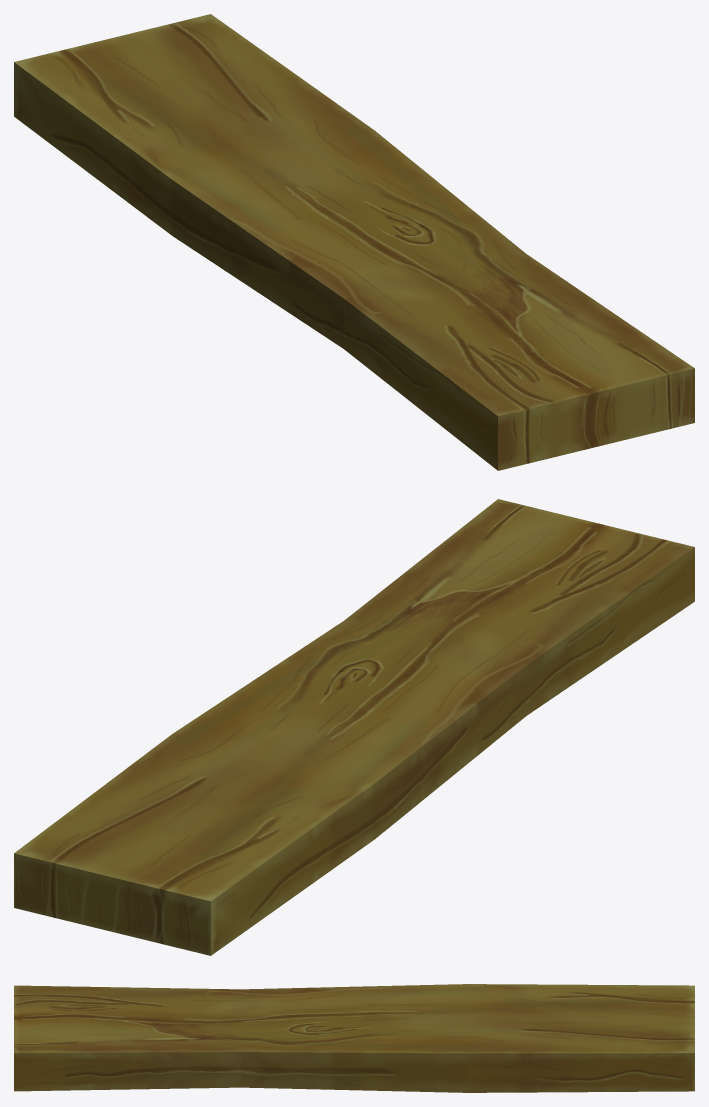
The model's file is Wooden_floor_11.fbx.
The picture shows the model from 3 angles, top to bottom: view 1: azimuth 30°, elevation 25°; view 2: azimuth 150°, elevation 25°; view 3: azimuth 270°, elevation 25°; orthographic projection. The views are drawn at different scales.
Visible parts, largest first — view 1: Cube.001; view 2: Cube.001; view 3: Cube.001.
Part boxes in pixels (x1=…): Cube.001: x1=14, y1=14, x2=694, y2=470; Cube.001: x1=14, y1=499, x2=694, y2=955; Cube.001: x1=14, y1=984, x2=694, y2=1092.
Size of the model in its own units: 0.7936 by 0.2102 by 3.29.
